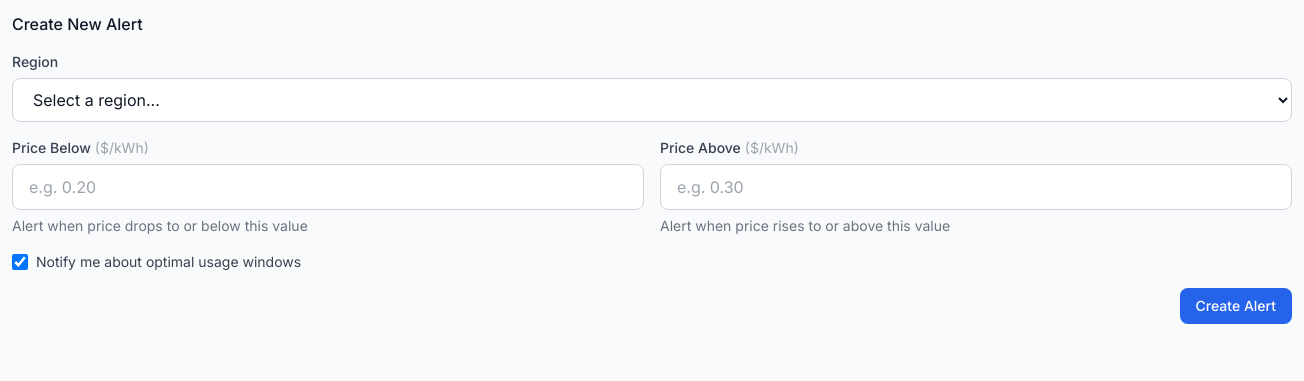
AlertForm › validation › shows 'At least one condition required' when no thresholds and no optimal windows
Note: Select a region
Select "Connecticut (CT)" in the dropdown with test id "region-select" at coordinates (652, 100), box [12, 78, 1292, 122]
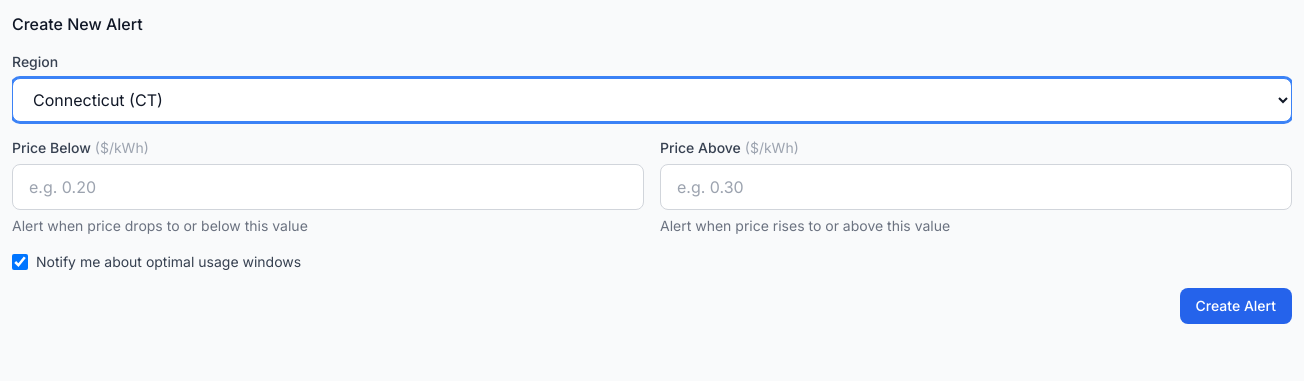
Note: Uncheck optimal windows
Click the checkbox labelled "Notify me about optimal usage windows" at coordinates (20, 262), box [12, 254, 28, 270]
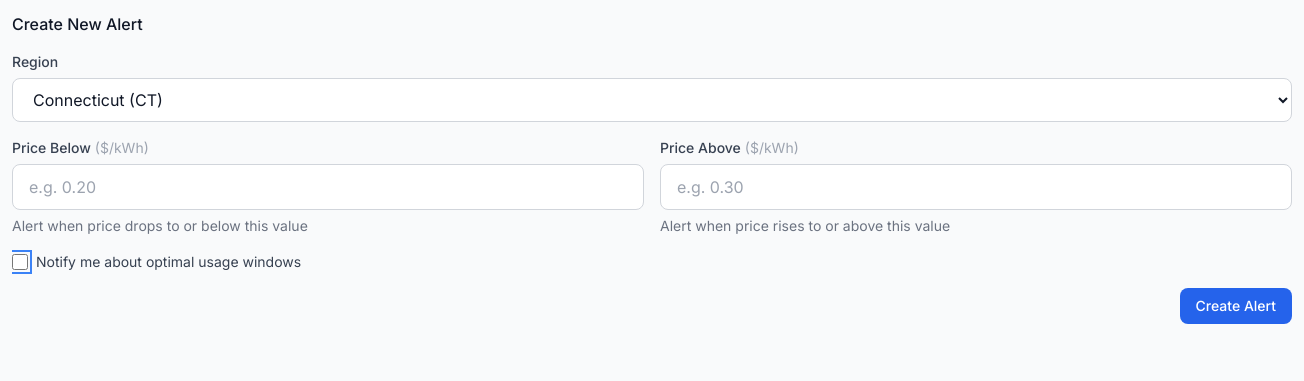
Click the button with test id "submit-alert" at coordinates (1236, 306), box [1180, 288, 1292, 324]
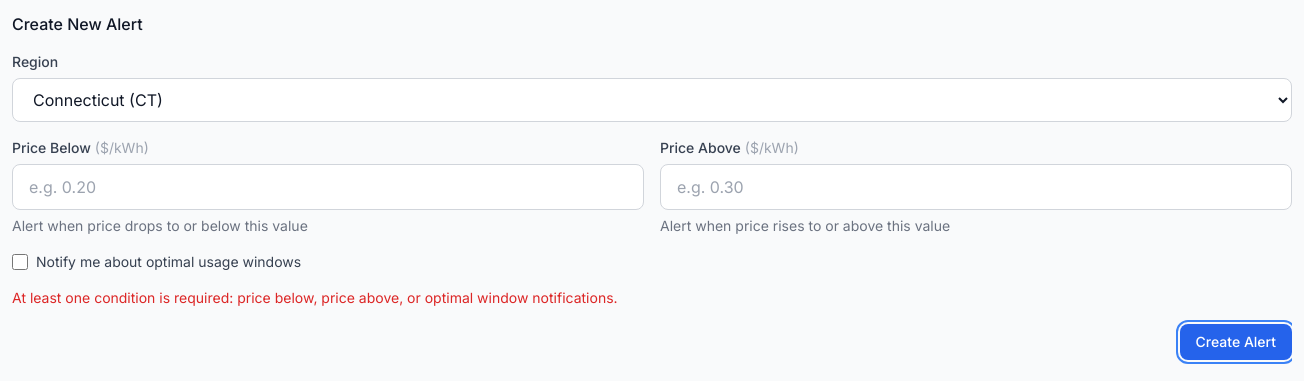
expect the message with test id "form-error" shows "At least one condition is required": met, box [12, 289, 618, 306]
